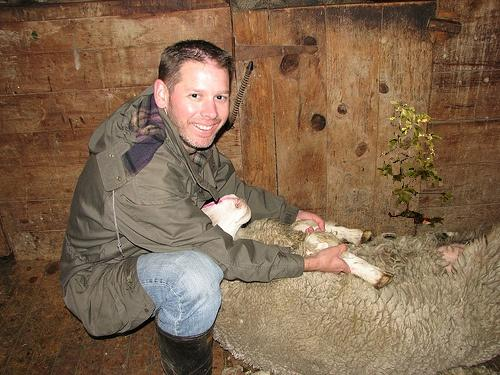tampered: (378, 102, 452, 228)
